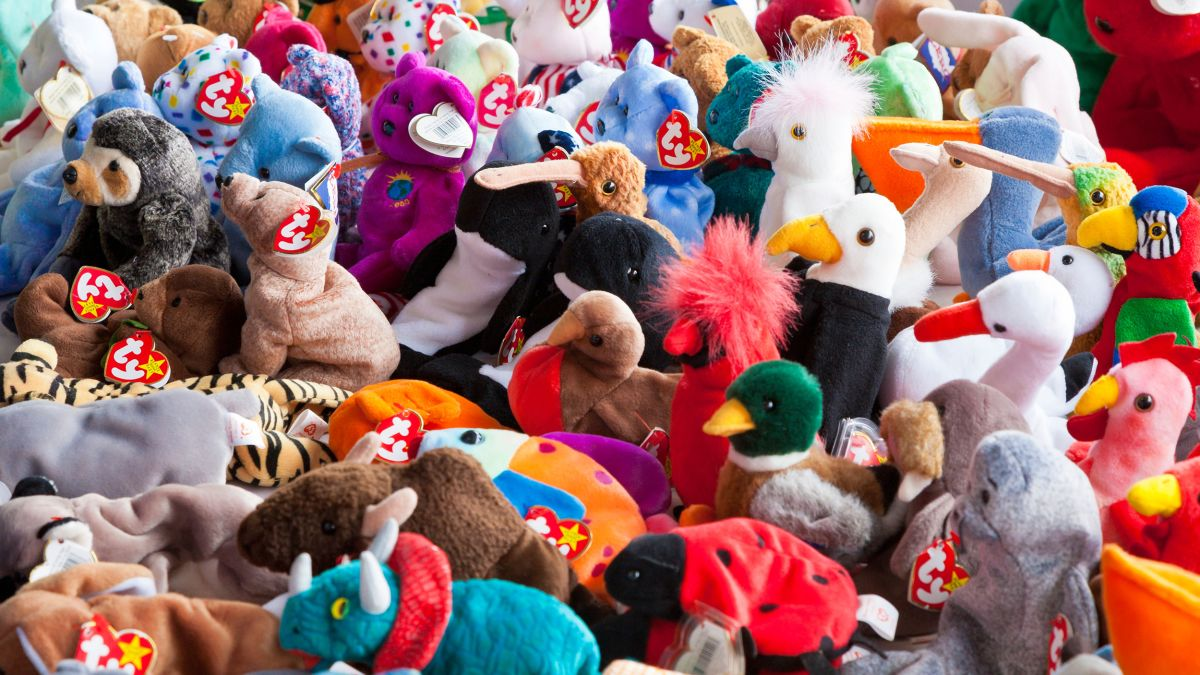toy: (205, 37, 1003, 647)
